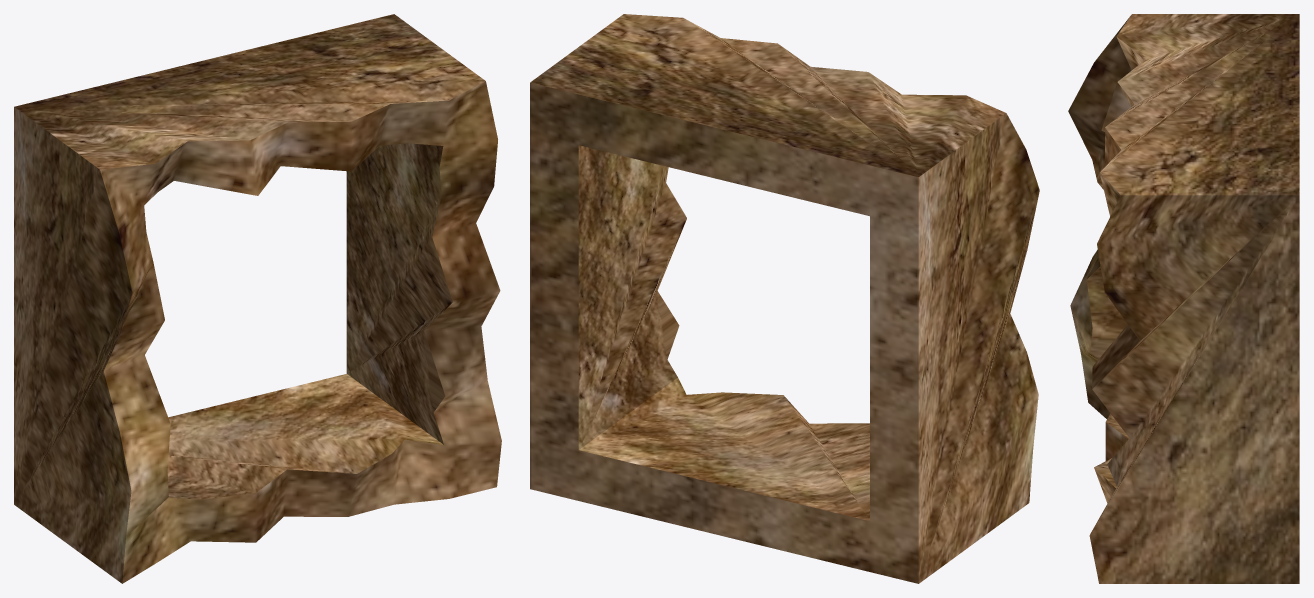
The model's file is wall.fbx.
3 renders of one model, left to right at view 1: azimuth 30°, elevation 25°; view 2: azimuth 150°, elevation 25°; view 3: azimuth 270°, elevation 25°, orthographic. The views are drawn at different scales.
Parts seen in each view (by area): view 1: polySurface1; view 2: polySurface1; view 3: polySurface1.
Part boxes in pixels (left/top/right/bottom): polySurface1: left=14, top=14, right=501, bottom=583; polySurface1: left=530, top=14, right=1039, bottom=583; polySurface1: left=1068, top=14, right=1299, bottom=583.
Bounding box in the file's own units: 1 × 0.5401 × 1.
Materials: 1 (1 with a texture image).
